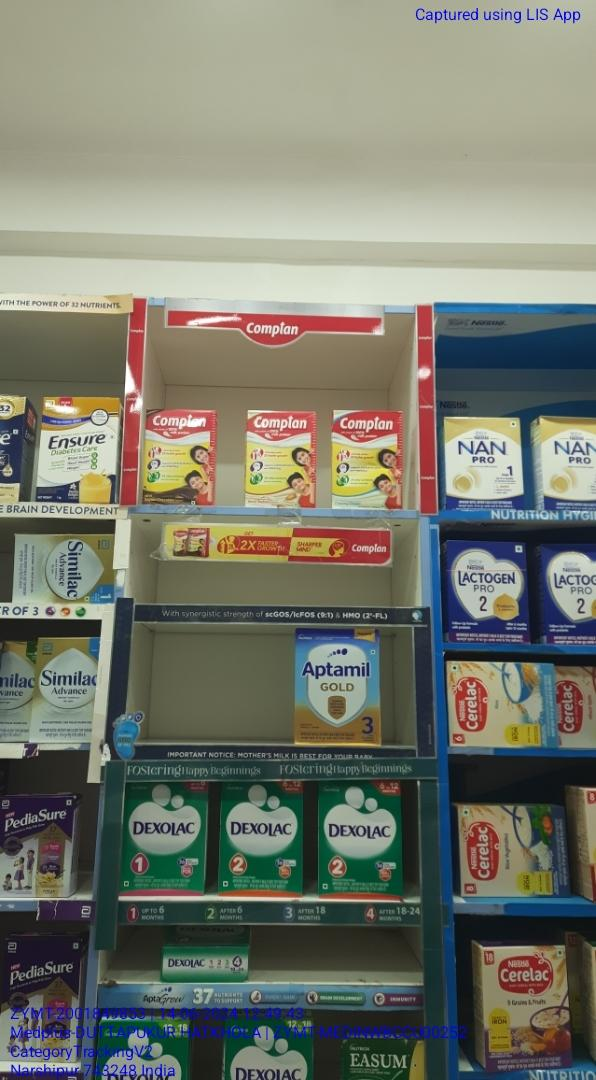COMPLAN_CHOCOLATE_500_GMS_PACK: (143, 407, 213, 505)
COMPLAN_CREAMY_CLASSIC_500_G_PACK: (331, 410, 402, 508)
COMPLAN_KESAR_BADAM_500_GMS_PACK: (245, 411, 316, 506)
